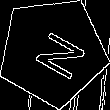N_NW: (21, 22, 84, 81)
